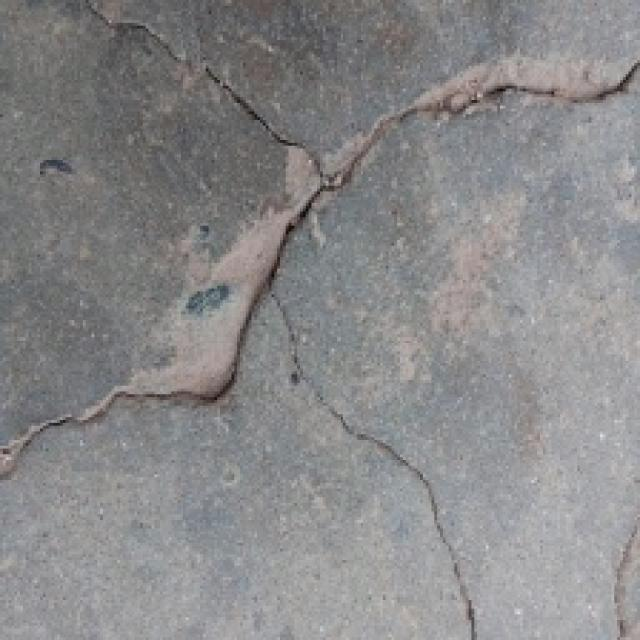crack: (0, 44, 636, 494), (244, 258, 510, 640)
